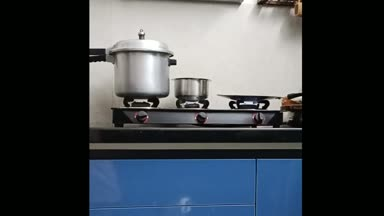flame_gas_off: (123, 98, 159, 123)
flame_gas_on: (176, 99, 213, 124), (234, 99, 270, 124)
